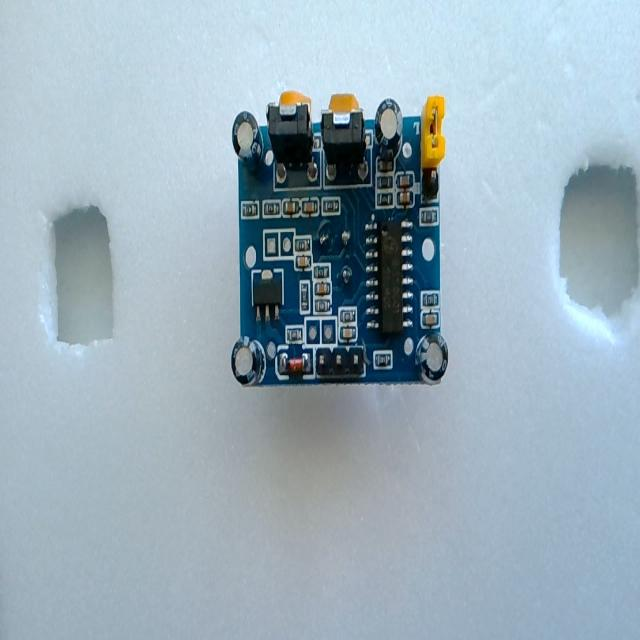Electrolytic capacitor: (232, 111, 264, 172), (374, 98, 404, 158), (231, 336, 265, 388), (416, 331, 448, 385)
IC: (365, 218, 413, 337)
pinheader: (316, 347, 364, 379)
